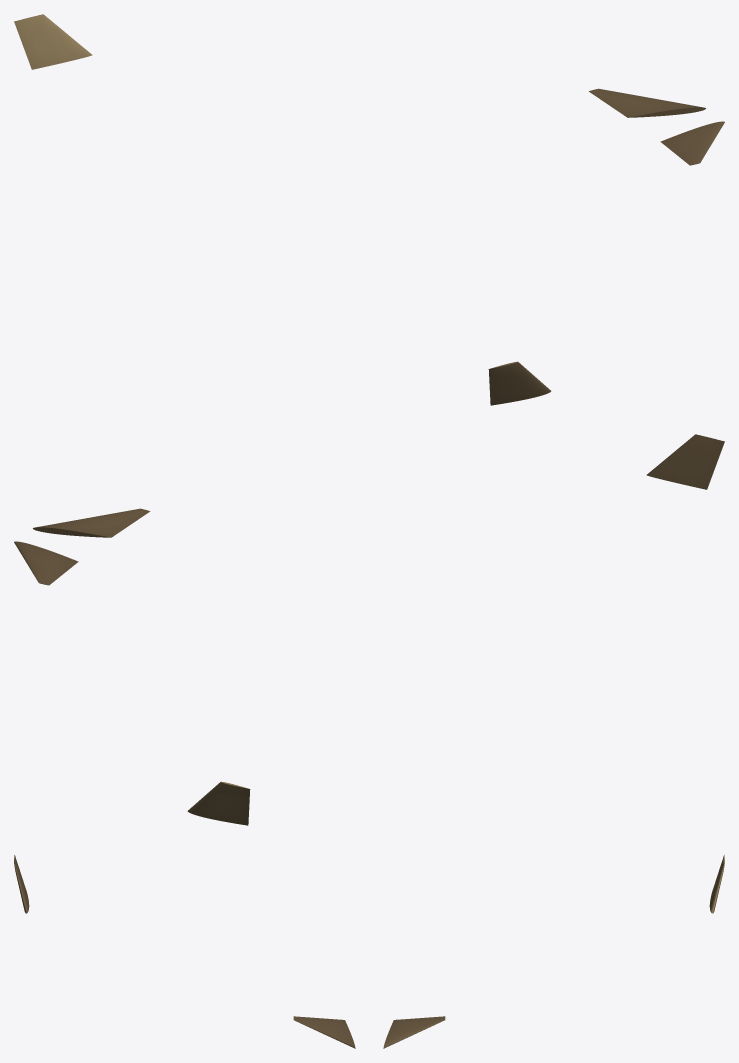
The model's file is fh_detail_bomber_2.glb.
The picture shows the model from 3 angles, top to bottom: view 1: azimuth 30°, elevation 25°; view 2: azimuth 150°, elevation 25°; view 3: azimuth 270°, elevation 25°; orthographic projection. The views are drawn at different scales.
Visible parts, largest first — view 1: winglet_l, winglet_r, canard_l, canard_r; view 2: winglet_r, winglet_l, canard_r, canard_l; view 3: canard_l, canard_r, winglet_l, winglet_r.
Part boxes in pixels (box(x1,y1,x2,y2)): winglet_l: box(14, 14, 92, 69); winglet_r: box(488, 361, 551, 405); canard_l: box(589, 88, 705, 117); canard_r: box(660, 121, 724, 165); winglet_r: box(646, 434, 724, 489); winglet_l: box(187, 781, 250, 825); canard_r: box(33, 508, 150, 537); canard_l: box(14, 541, 78, 585); canard_l: box(383, 1016, 445, 1048); canard_r: box(293, 1016, 355, 1048); winglet_l: box(709, 855, 724, 913); winglet_r: box(14, 855, 29, 913).
Size of the model in its own units: 0.622 by 0.0591 by 1.1.
